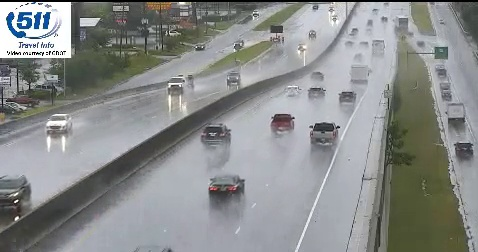car: (210, 176, 244, 197), (201, 124, 231, 146), (310, 122, 339, 144), (271, 113, 295, 132), (339, 91, 355, 102)
